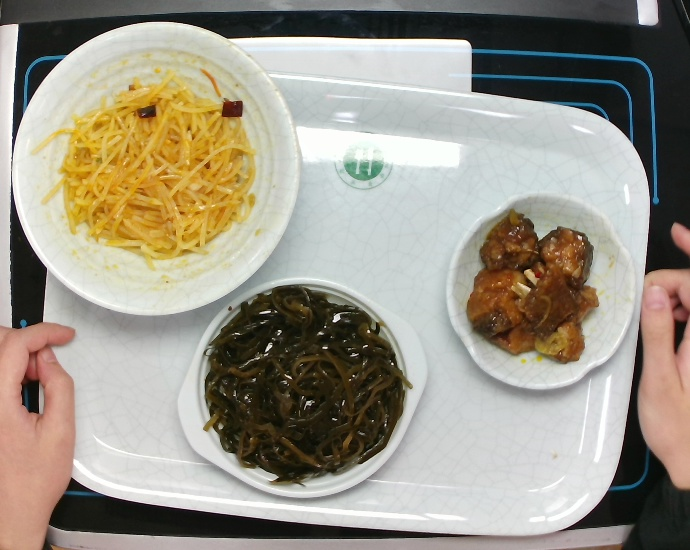JYsf-Ao_Yuan_Wan: (444, 189, 636, 391)
JYsf-Shuang_Er_Pan: (175, 275, 429, 500)
JYsf-Xiao_Tang_Wan: (8, 19, 302, 320)
